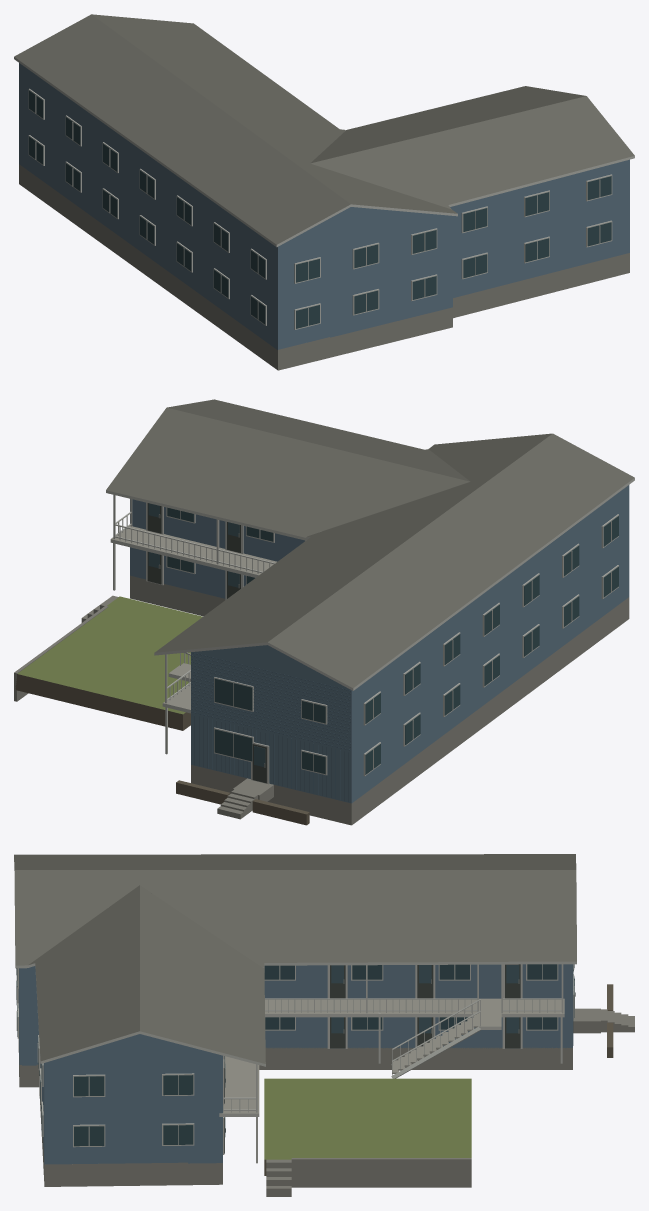
Rendered from site.glb.
3 views of the same model, one above another, from view 1: azimuth 30°, elevation 25°; view 2: azimuth 150°, elevation 25°; view 3: azimuth 270°, elevation 25° (orthographic). The views are drawn at different scales.
Visible parts, largest first — view 1: roof-0eb55b68; view 2: roof-0eb55b68, east-nineteenth-court-approach; view 3: roof-0eb55b68, east-nineteenth-court-approach.
Part boxes in pixels (left/top/right/bottom): roof-0eb55b68: left=14, top=14, right=634, bottom=370; roof-0eb55b68: left=106, top=399, right=634, bottom=825; east-nineteenth-court-approach: left=14, top=595, right=309, bottom=825; roof-0eb55b68: left=14, top=854, right=576, bottom=1186; east-nineteenth-court-approach: left=264, top=984, right=634, bottom=1196.
Size of the model in its own units: 23.7 by 9.4 by 31.12.
